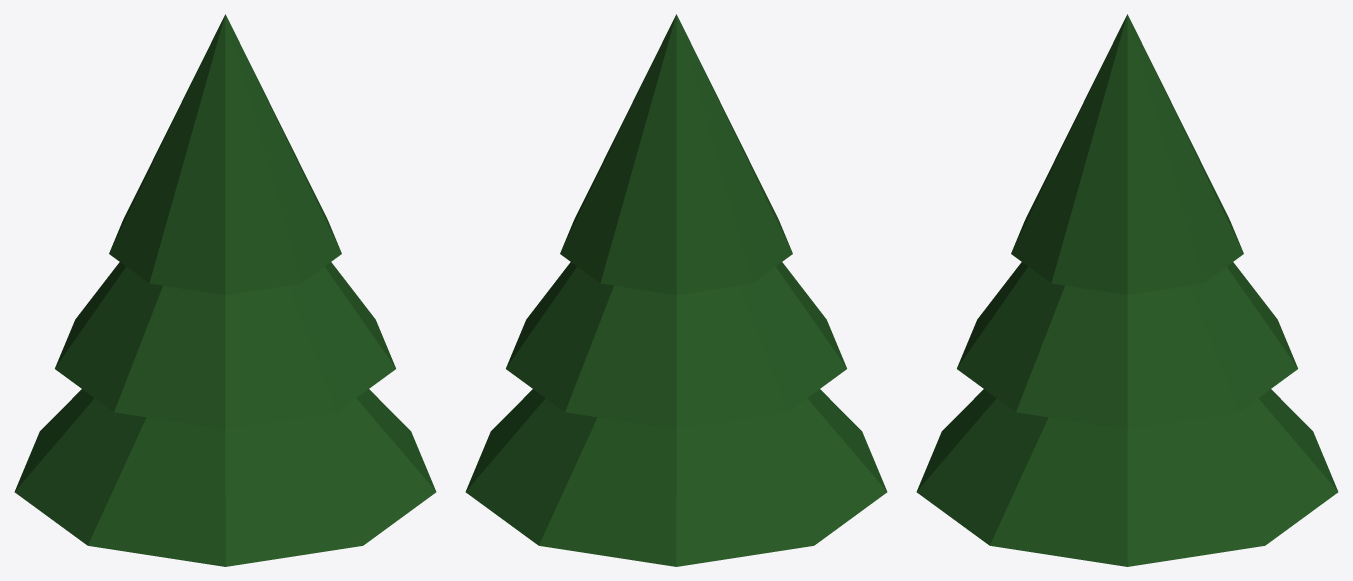
The model's file is pine.obj.
The picture shows the model from 3 angles, left to right: view 1: azimuth 30°, elevation 25°; view 2: azimuth 150°, elevation 25°; view 3: azimuth 270°, elevation 25°; orthographic projection.
Bounding box in the file's own units: 2.04 × 2.88 × 2.07.
Materials: 2 (2 with a texture image).
